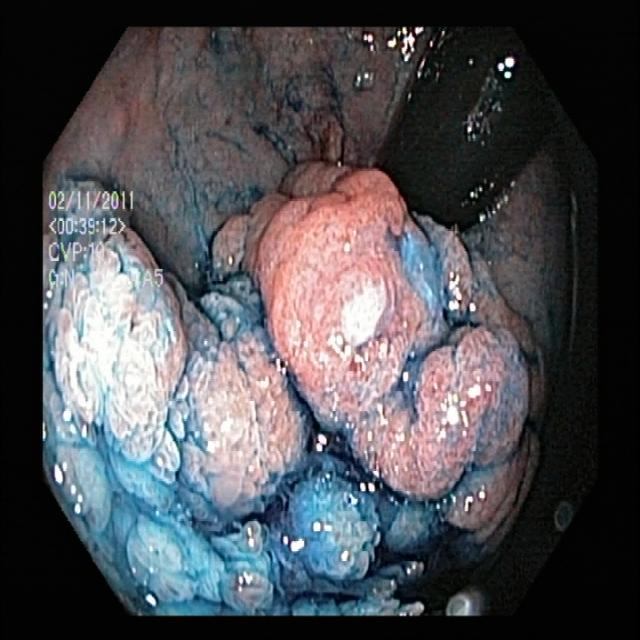dyed-lifted-polyps: (43, 144, 585, 617)
